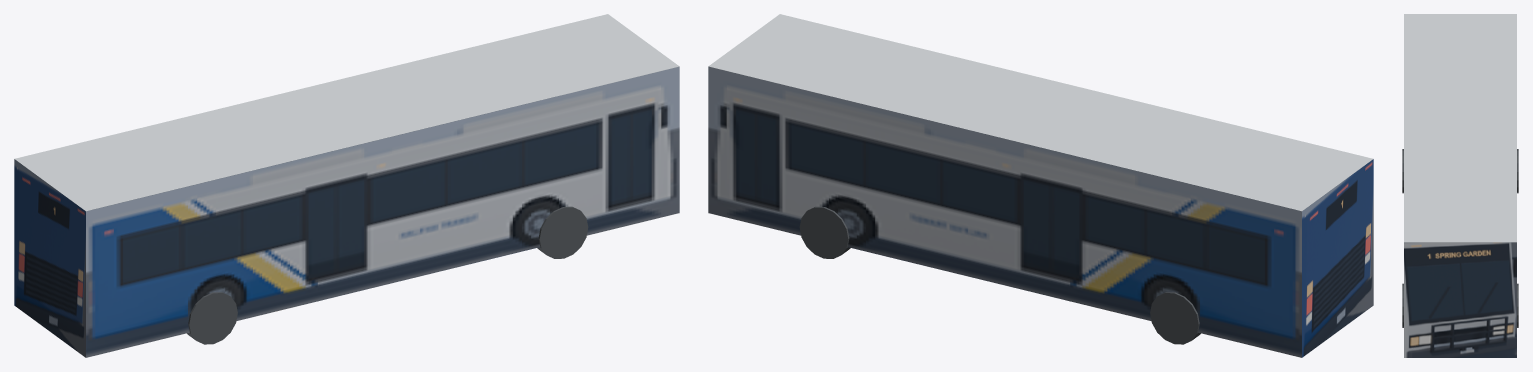
The model's file is bus-near.glb.
3 views of the same model, side by side, from view 1: azimuth 30°, elevation 25°; view 2: azimuth 150°, elevation 25°; view 3: azimuth 270°, elevation 25° (orthographic). The views are drawn at different scales.
Visible parts, largest first — view 1: bus; view 2: bus; view 3: bus.
Part boxes in pixels (box(x1,y1,x2,y2)): bus: box(14, 14, 679, 357); bus: box(708, 14, 1373, 357); bus: box(1402, 14, 1518, 357).
Bounding box in the file's own units: 12.2 × 3.2 × 2.63.
2 materials, 1 textured.
